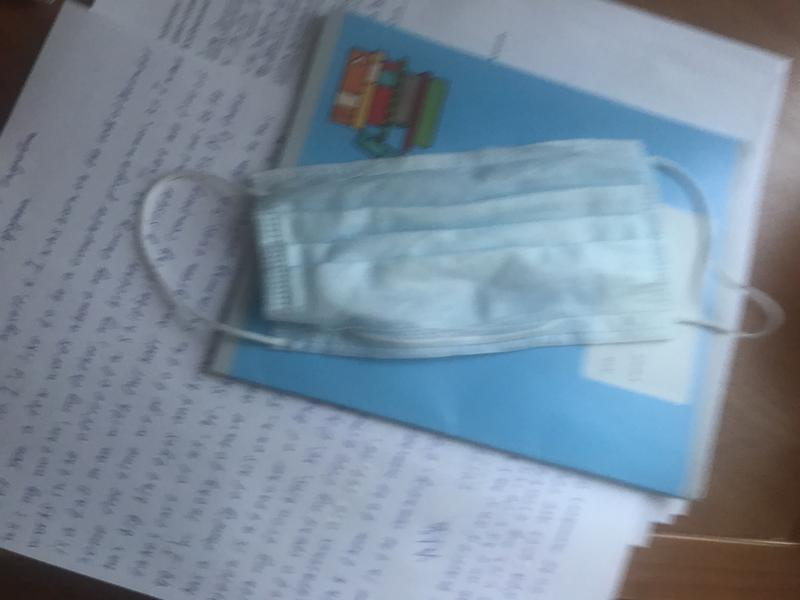medical_mask: (137, 143, 780, 353)
